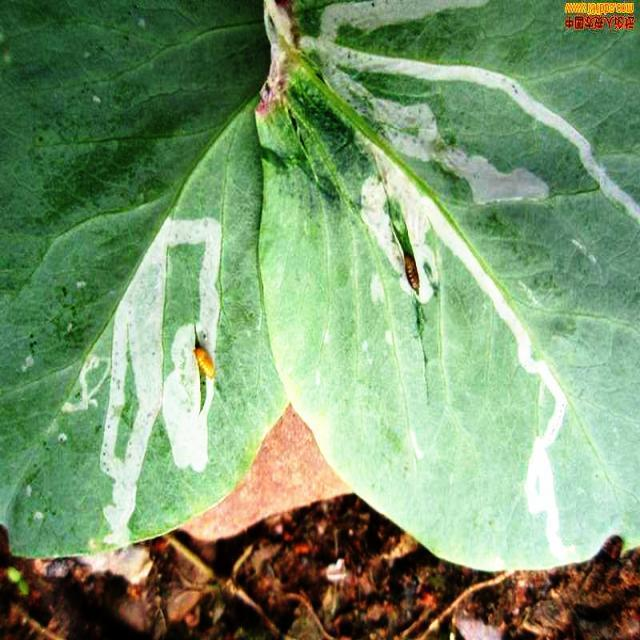whorl-maggot: (394, 250, 436, 304), (187, 337, 223, 389)
